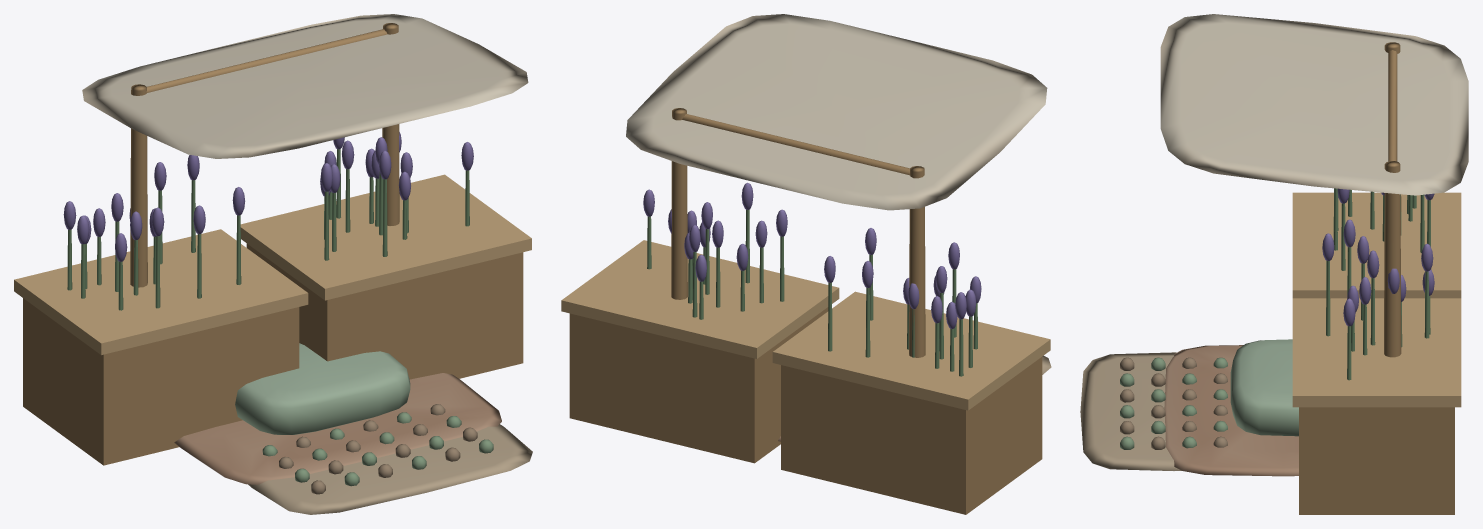
Rendered from school_upgrades.glb.
The picture shows the model from 3 angles, left to right: view 1: azimuth 30°, elevation 25°; view 2: azimuth 150°, elevation 25°; view 3: azimuth 270°, elevation 25°; orthographic projection. The views are drawn at different scales.
Parts seen in each view (by area): view 1: sniff_corner, rest_place; view 2: sniff_corner, rest_place; view 3: rest_place, sniff_corner.
Boxes of the visible parts, x1=… form: sniff_corner: x1=14, y1=132, x2=532, y2=514; rest_place: x1=82, y1=14, x2=528, y2=484; sniff_corner: x1=561, y1=182, x2=1051, y2=514; rest_place: x1=626, y1=14, x2=1047, y2=441; rest_place: x1=1160, y1=14, x2=1468, y2=476; sniff_corner: x1=1080, y1=188, x2=1461, y2=514.
Bounding box in the file's own units: 1.54 × 1.16 × 1.24.
